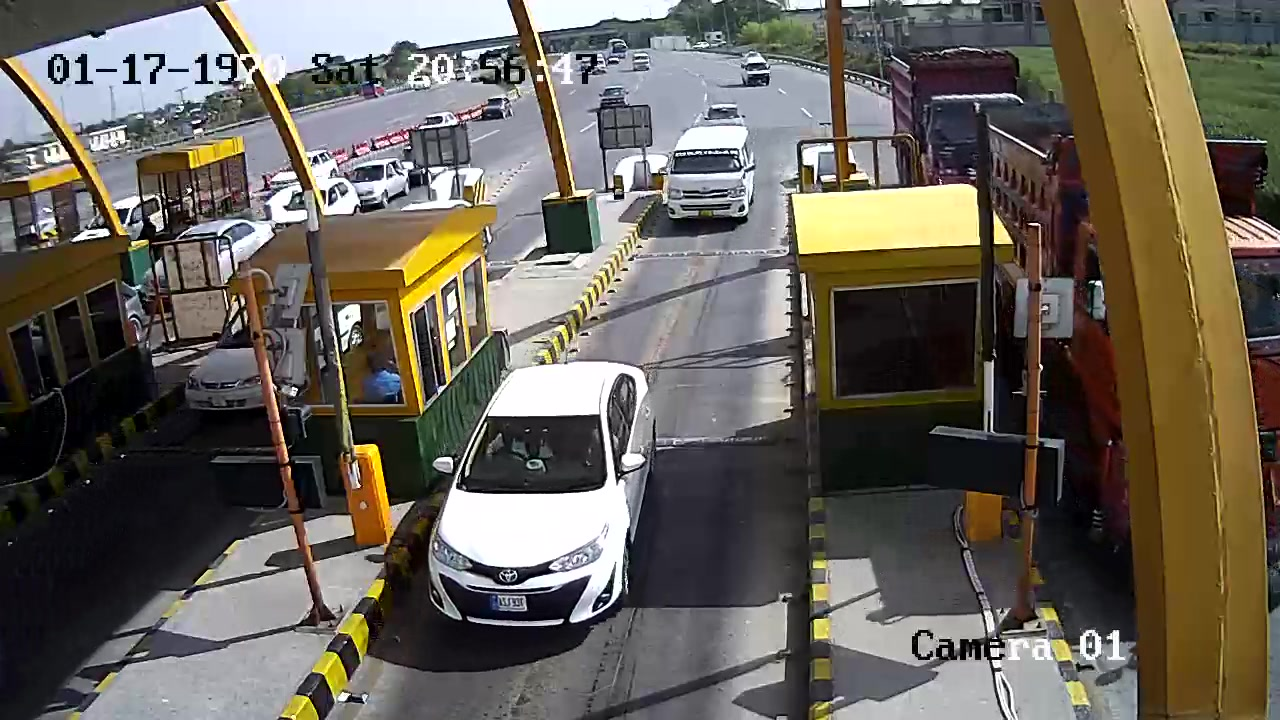F1: (427, 357, 673, 651)
